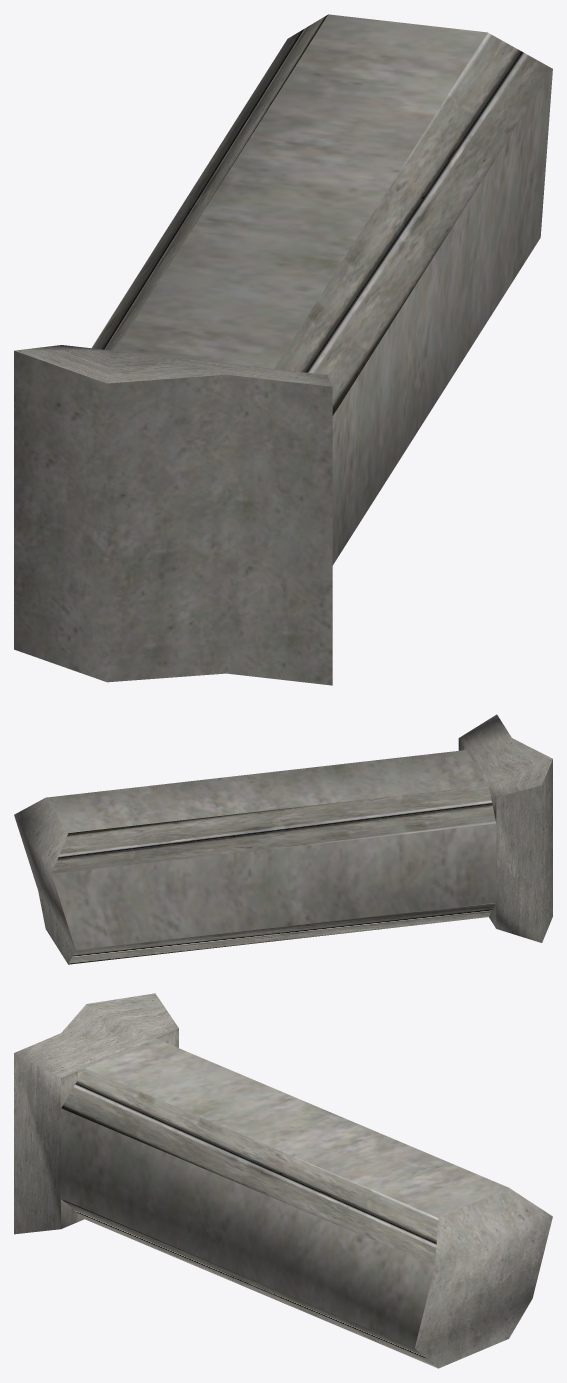
Rendered from DWARF_PALACE_MAINHALL_DEBREE09.fbx.
3 views of the same model, one above another, from view 1: azimuth 30°, elevation 25°; view 2: azimuth 150°, elevation 25°; view 3: azimuth 270°, elevation 25° (orthographic). The views are drawn at different scales.
Parts seen in each view (by area): view 1: DWARF_PALACE_MAINHALL_DEBREE09; view 2: DWARF_PALACE_MAINHALL_DEBREE09; view 3: DWARF_PALACE_MAINHALL_DEBREE09.
Part boxes in pixels (x1,y1,x2,y2): DWARF_PALACE_MAINHALL_DEBREE09: (14, 14, 552, 685); DWARF_PALACE_MAINHALL_DEBREE09: (14, 714, 552, 964); DWARF_PALACE_MAINHALL_DEBREE09: (14, 993, 552, 1368).
Size of the model in its own units: 64668 by 24000 by 64668.
Materials: 2 (2 with a texture image).
